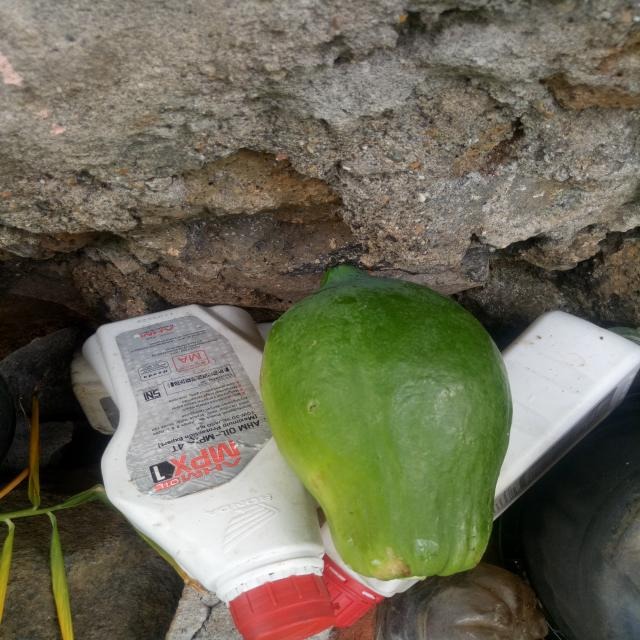Pepaya unrippen: (260, 256, 510, 585)
